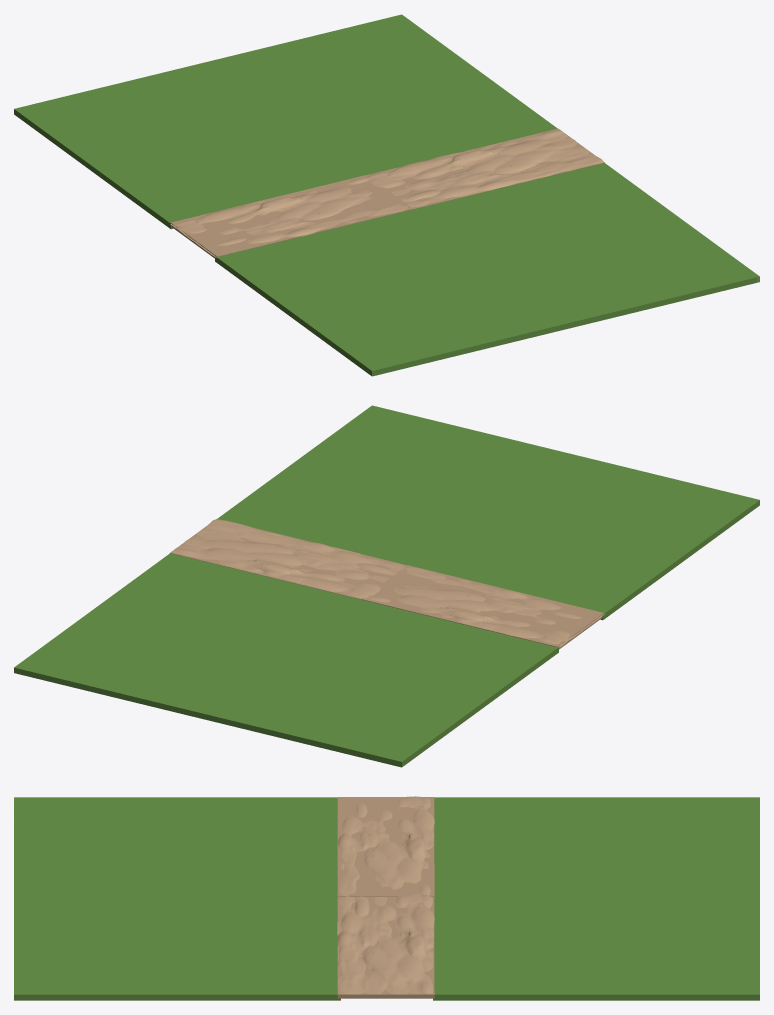
Rendered from Countryside.fbx.
3 renders of one model, top to bottom at view 1: azimuth 30°, elevation 25°; view 2: azimuth 150°, elevation 25°; view 3: azimuth 270°, elevation 25°, orthographic. The views are drawn at different scales.
Visible parts, largest first — view 1: COUNTRYSIDE; view 2: COUNTRYSIDE; view 3: COUNTRYSIDE.
Boxes of the visible parts, <box> form: COUNTRYSIDE: <box>14,14,759,376</box>; COUNTRYSIDE: <box>14,405,759,767</box>; COUNTRYSIDE: <box>14,796,759,1000</box>.
Bounding box in the file's own units: 3644 × 89.53 × 5802.
Materials: 1 (1 with a texture image).
